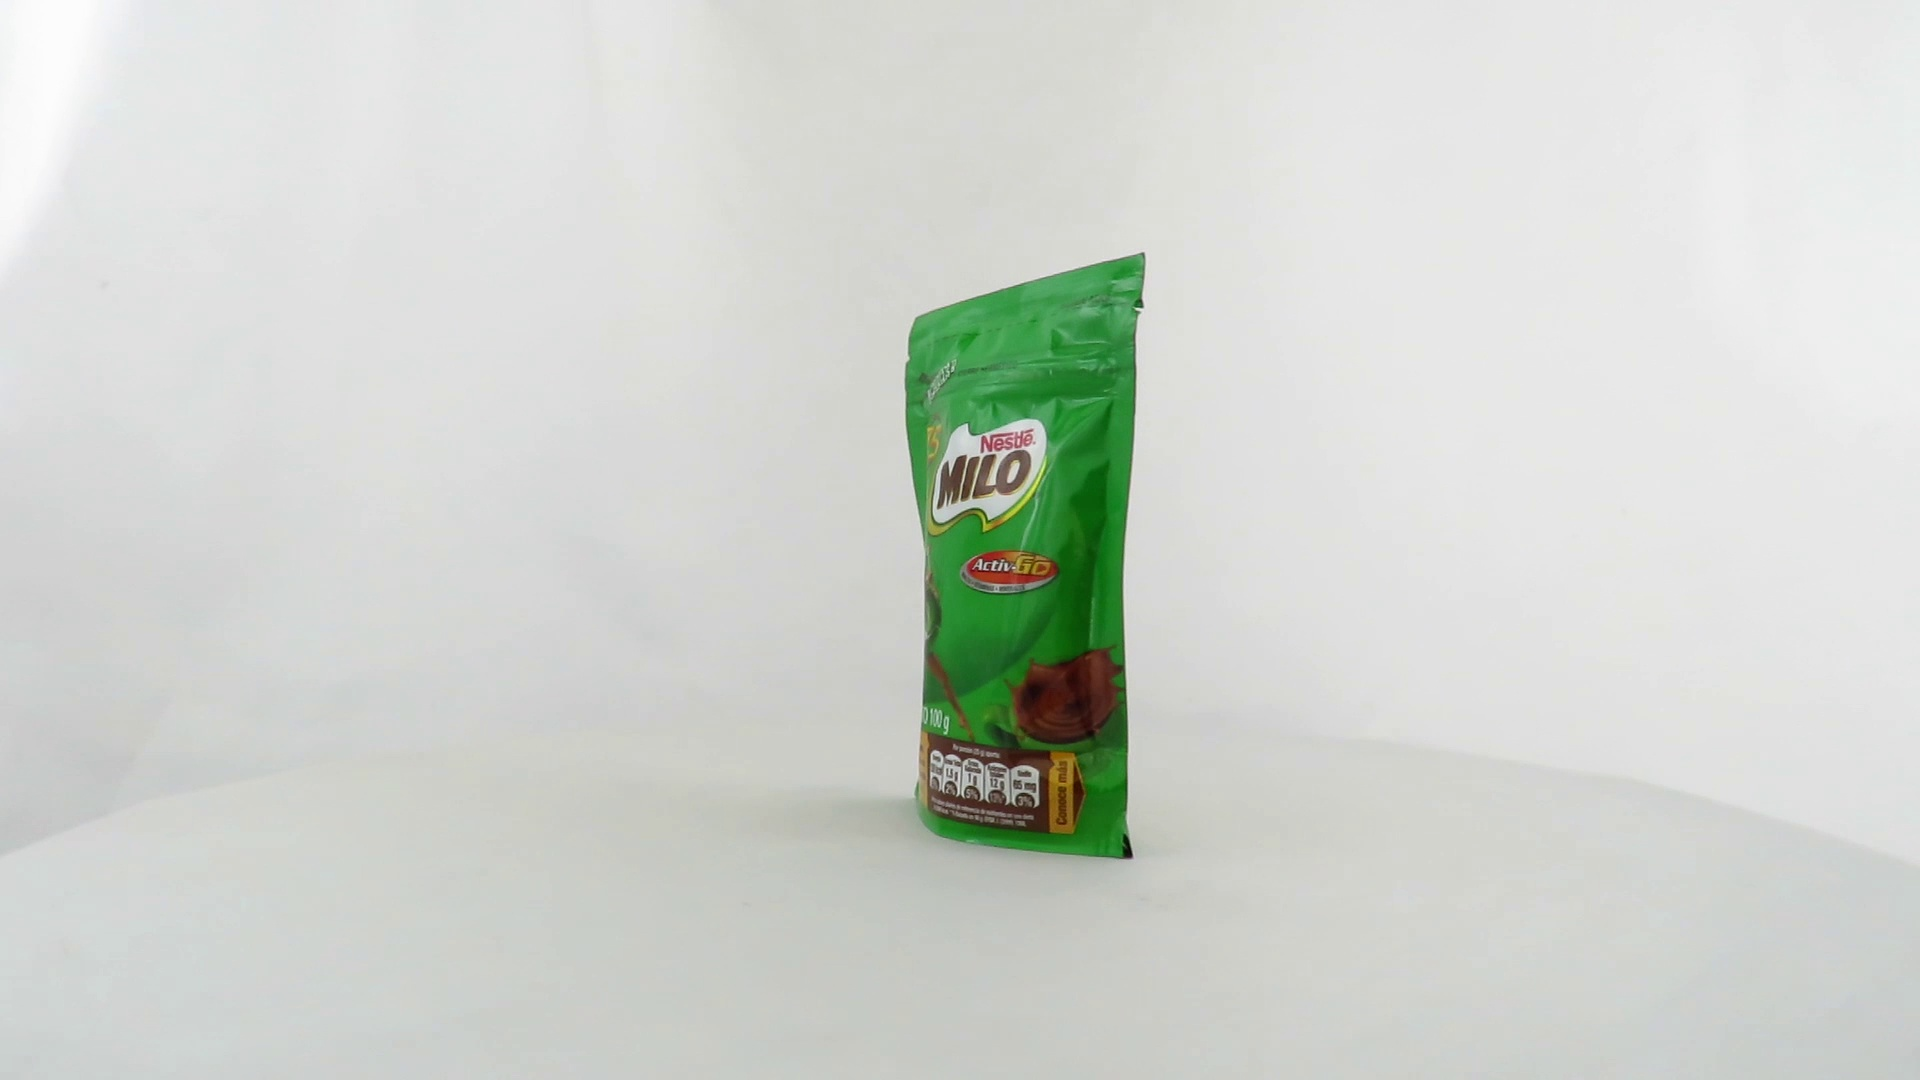COL0170203DYP10000: (876, 247, 1153, 866)
